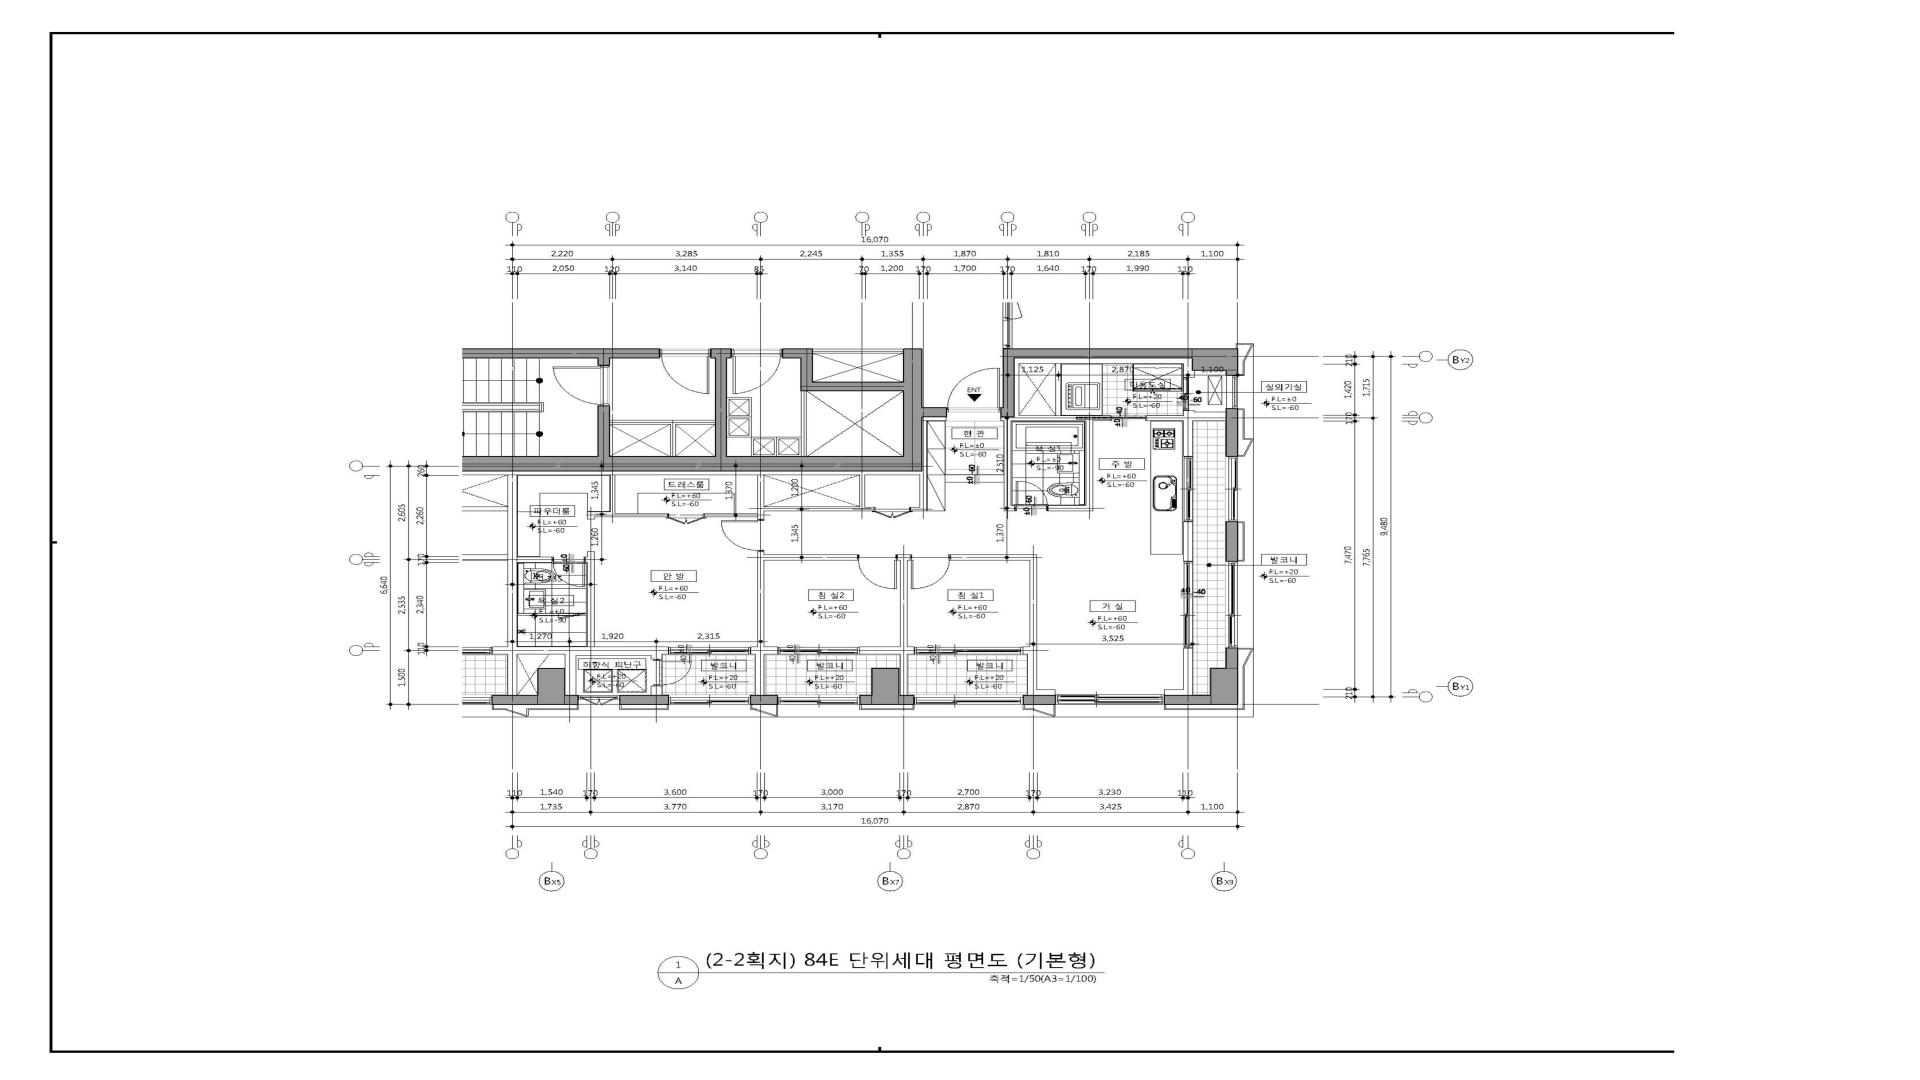door: (947, 368, 1001, 413), (659, 348, 711, 394), (553, 365, 609, 406), (732, 349, 783, 394), (720, 518, 765, 551), (857, 554, 898, 589), (910, 554, 951, 589), (653, 659, 692, 686), (551, 556, 585, 587), (1014, 481, 1048, 512), (1110, 415, 1147, 421), (558, 613, 585, 618)
wall: (462, 456, 923, 472), (462, 348, 659, 359), (508, 475, 517, 695), (903, 348, 922, 456), (1014, 348, 1192, 359), (508, 471, 919, 475), (1027, 560, 1038, 690), (715, 359, 727, 456), (537, 669, 566, 705), (1192, 348, 1238, 371), (1211, 669, 1238, 705), (872, 669, 899, 705), (814, 381, 903, 392), (1014, 359, 1192, 364), (1001, 348, 1014, 417), (585, 551, 595, 647), (757, 551, 765, 646), (1085, 421, 1093, 512), (1004, 421, 1011, 512), (919, 421, 927, 512), (576, 646, 650, 655), (597, 406, 611, 456), (1225, 409, 1238, 456), (765, 554, 857, 560), (1001, 415, 1110, 421), (765, 506, 874, 512), (901, 560, 907, 646), (951, 554, 1036, 560), (564, 647, 576, 695), (611, 419, 715, 425), (1225, 521, 1238, 562), (620, 695, 669, 705), (1183, 410, 1193, 456), (1164, 695, 1211, 705), (812, 348, 903, 353), (492, 695, 537, 705), (1183, 647, 1193, 690), (800, 359, 814, 392), (860, 646, 914, 654), (800, 392, 807, 456), (1183, 522, 1193, 562), (756, 654, 765, 695), (757, 475, 765, 518), (1193, 410, 1225, 421), (782, 348, 814, 359), (517, 647, 564, 654), (1023, 695, 1056, 704), (750, 695, 778, 705), (1225, 647, 1238, 669), (1014, 364, 1019, 415), (1055, 364, 1060, 415), (901, 654, 907, 695), (1048, 505, 1085, 512), (922, 407, 947, 417), (711, 348, 732, 359), (611, 475, 616, 517), (750, 646, 778, 654), (670, 425, 676, 456), (704, 513, 757, 517), (616, 513, 667, 517), (1147, 415, 1183, 421), (587, 512, 611, 520), (517, 556, 551, 562), (899, 695, 915, 705), (860, 475, 865, 506), (1183, 364, 1195, 377), (650, 646, 662, 659), (564, 695, 579, 705), (1164, 690, 1193, 695), (1027, 690, 1055, 695), (860, 695, 872, 705), (650, 686, 662, 695), (518, 613, 558, 616), (922, 417, 947, 421), (597, 359, 611, 365), (1225, 371, 1238, 376), (727, 397, 752, 400), (777, 436, 800, 439), (898, 555, 910, 560), (729, 435, 752, 438), (729, 417, 752, 419), (727, 417, 729, 438), (662, 646, 669, 654), (752, 438, 754, 456), (727, 400, 729, 417), (749, 419, 752, 435), (911, 506, 919, 512), (749, 400, 752, 415), (774, 439, 777, 455), (777, 439, 779, 455), (1023, 646, 1027, 654), (729, 415, 752, 417), (754, 438, 777, 439), (754, 455, 777, 456), (777, 455, 799, 456), (799, 439, 800, 456), (1011, 505, 1014, 512)
window: (1225, 562, 1238, 647), (914, 695, 1023, 704), (1055, 695, 1164, 704), (1225, 456, 1238, 522), (1184, 562, 1193, 647), (669, 695, 750, 704), (778, 695, 860, 704), (914, 647, 1023, 654), (1184, 456, 1193, 522), (778, 647, 860, 654), (669, 647, 750, 654), (1226, 376, 1238, 409), (579, 695, 620, 704), (1183, 377, 1189, 410)
